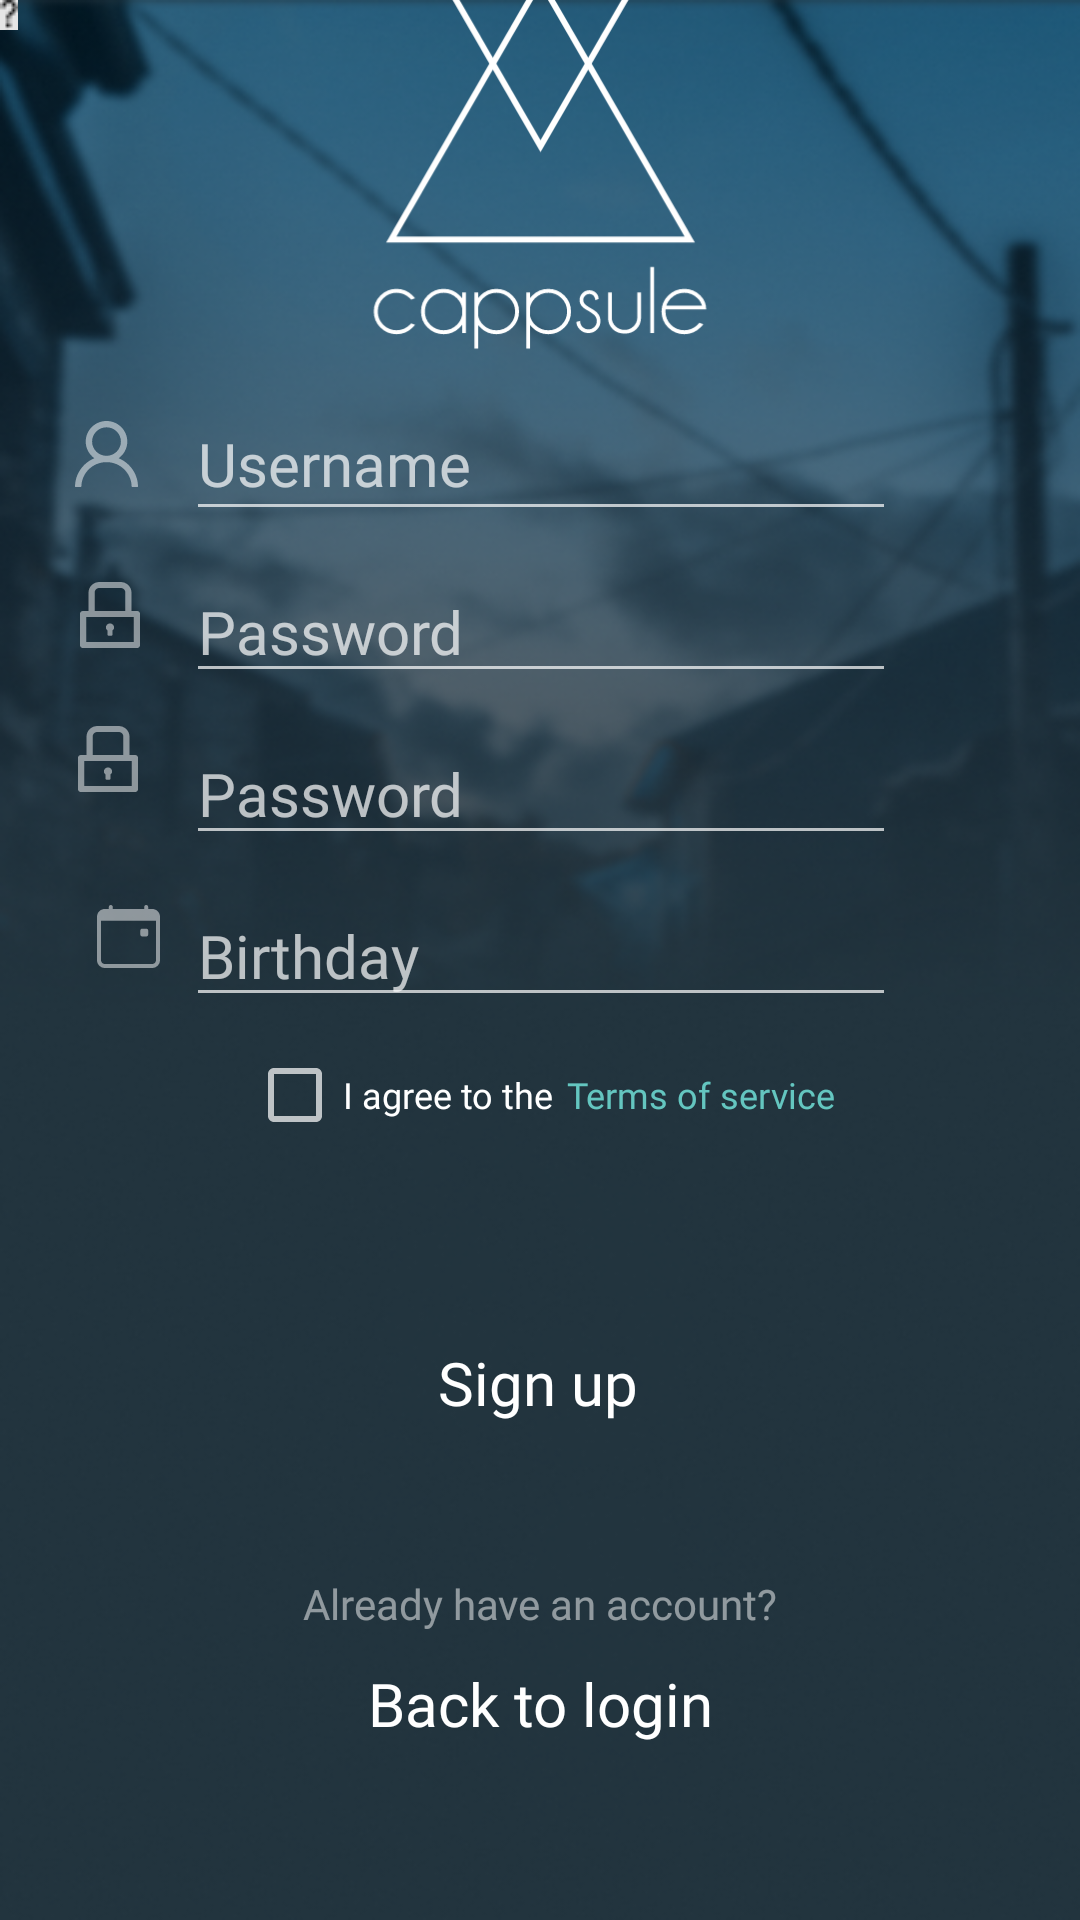

Screen size 1080px×1920px. Icon name, then its box in pixels as (x1, y1, x2, y2):
calendaricon: (97, 905, 160, 968)
usericon: (75, 421, 138, 487)
